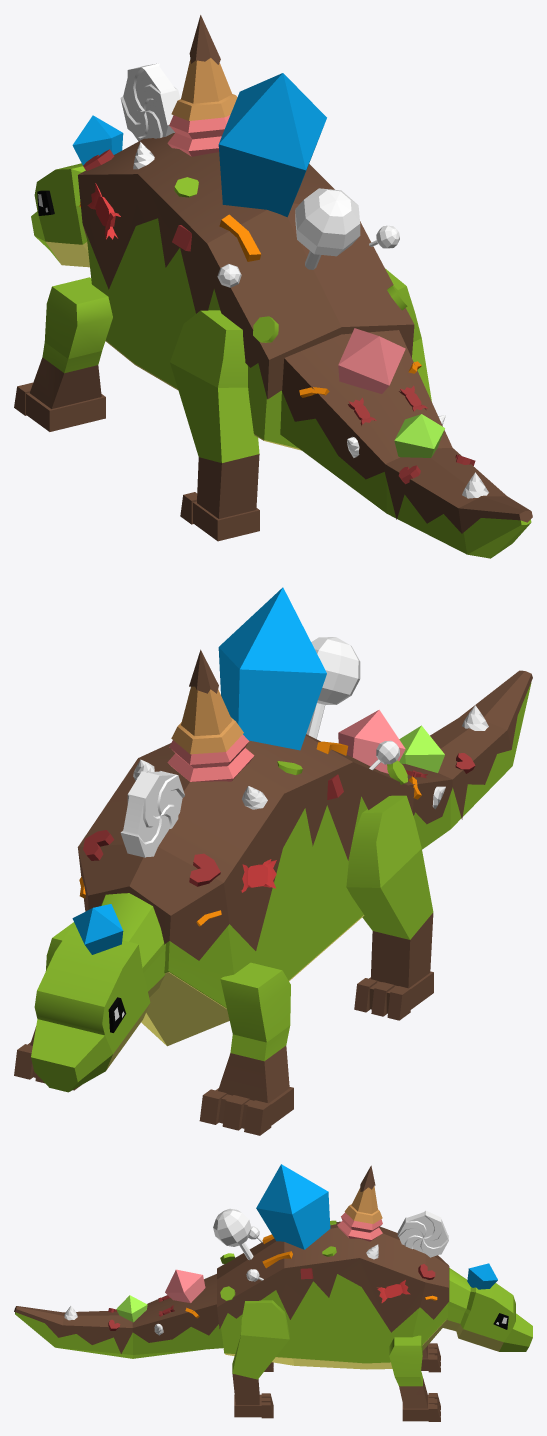
The model's file is candy_stegosaurus.obj.
3 renders of one model, top to bottom at view 1: azimuth 30°, elevation 25°; view 2: azimuth 150°, elevation 25°; view 3: azimuth 270°, elevation 25°, orthographic. The views are drawn at different scales.
Parts seen in each view (by area): view 1: Torso, Tail, BackLeftLeg, ForwardLeftLeg, Head, BackRightLeg; view 2: Torso, Head, BackLeftLeg, Tail, ForwardLeftLeg, ForwardRightLeg; view 3: Torso, Tail, Head, BackRightLeg, ForwardRightLeg, ForwardLeftLeg.
Boxes of the visible parts, x1,y1,x2,y2 form: Torso: (78,15,414,450); Tail: (280,328,532,558); BackLeftLeg: (170,310,259,541); ForwardLeftLeg: (14,277,112,431); Head: (31,115,123,267); BackRightLeg: (385,268,431,401); Torso: (77,587,414,1046); Head: (31,893,165,1092); BackLeftLeg: (346,795,433,1020); Tail: (338,670,532,849); ForwardLeftLeg: (199,962,293,1135); ForwardRightLeg: (14,922,81,1090); Torso: (213,1164,449,1369); Tail: (14,1269,223,1358); Head: (441,1263,532,1351); BackRightLeg: (232,1300,289,1418); ForwardRightLeg: (389,1335,440,1421); ForwardLeftLeg: (421,1343,440,1372).
Size of the model in its own units: 5.44 by 8.71 by 18.2.
